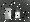person: (3, 9, 11, 20), (16, 13, 21, 19)
